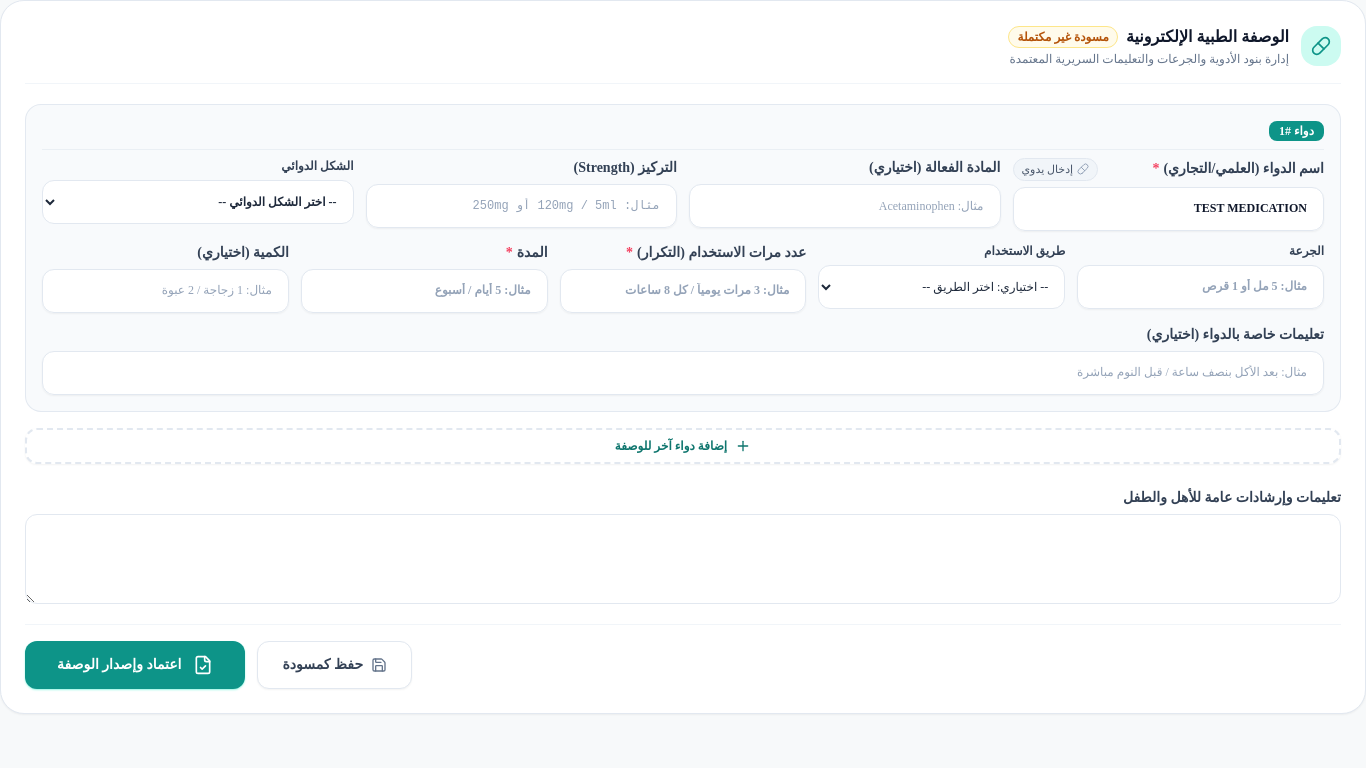
Test: ElectronicPrescriptionSection (التحقق من رسائل الخطأ والنجاح ومنع الإصدار الناقص) › clears previous green success message immediately when a new issue attempt fails validation
# Click "حفظ كمسودة"
Click the button "حفظ كمسودة". click: (335, 664)
box: 258,640 -> 412,688
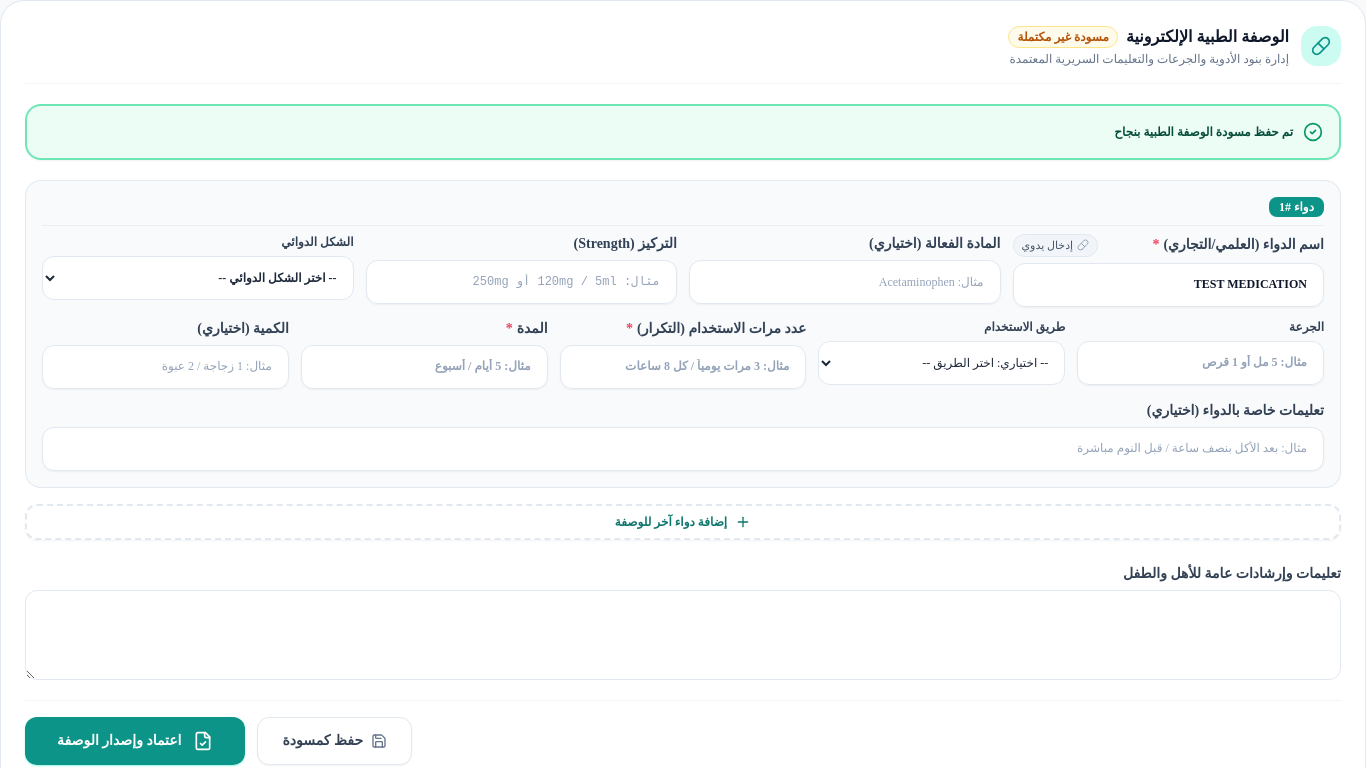
expect the element with test id "rx-success-alert" is shown: met, box 25,104 -> 1341,160
expect the text "تم حفظ مسودة الوصفة الطبية بنجاح" is shown: met, box 1114,124 -> 1293,140
# Now click "اعتماد وإصدار الوصفة" with incomplete fields
Click the button "اعتماد وإصدار الوصفة". click: (135, 740)
box: 25,716 -> 246,764
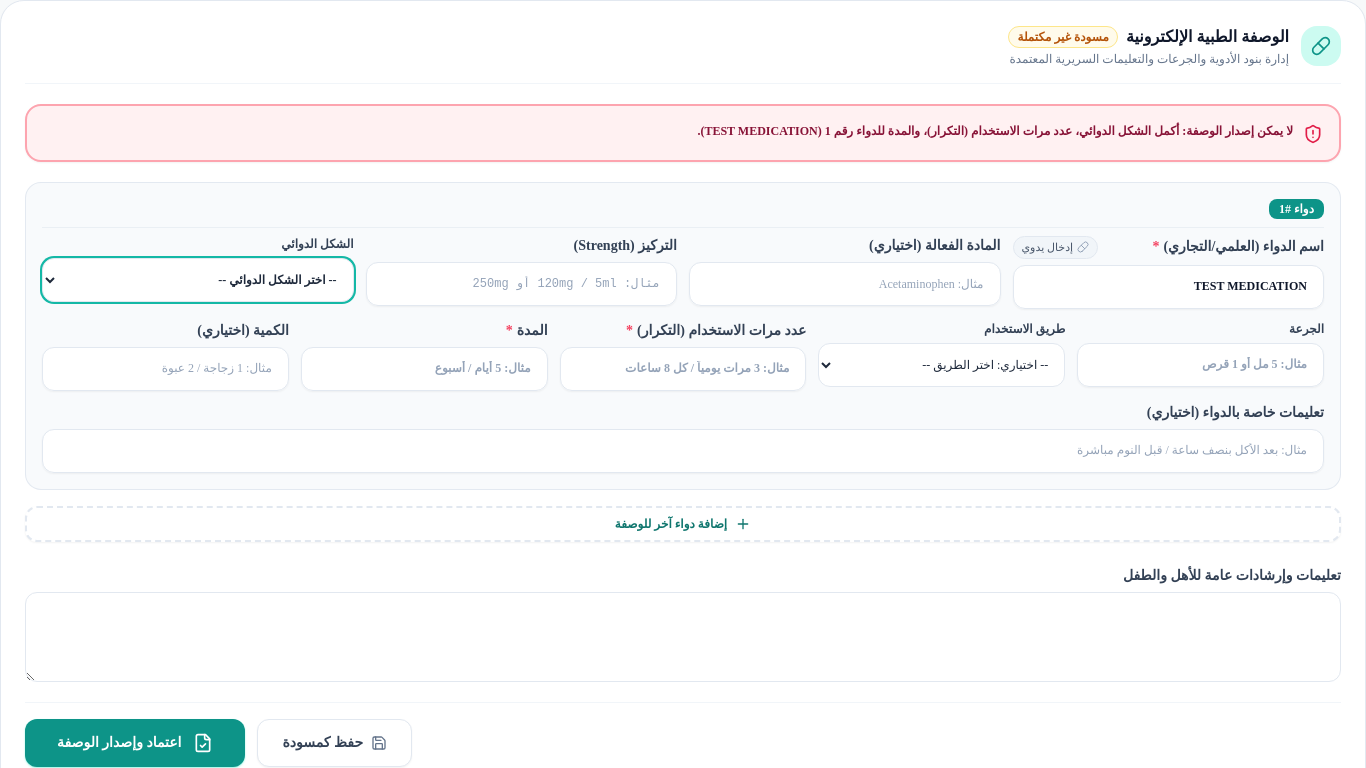
expect the element with test id "rx-success-alert" is gone: met
expect the text "تم حفظ مسودة الوصفة الطبية بنجاح" is gone: met
expect the element with test id "rx-error-alert" is shown: met, box 25,104 -> 1341,162
